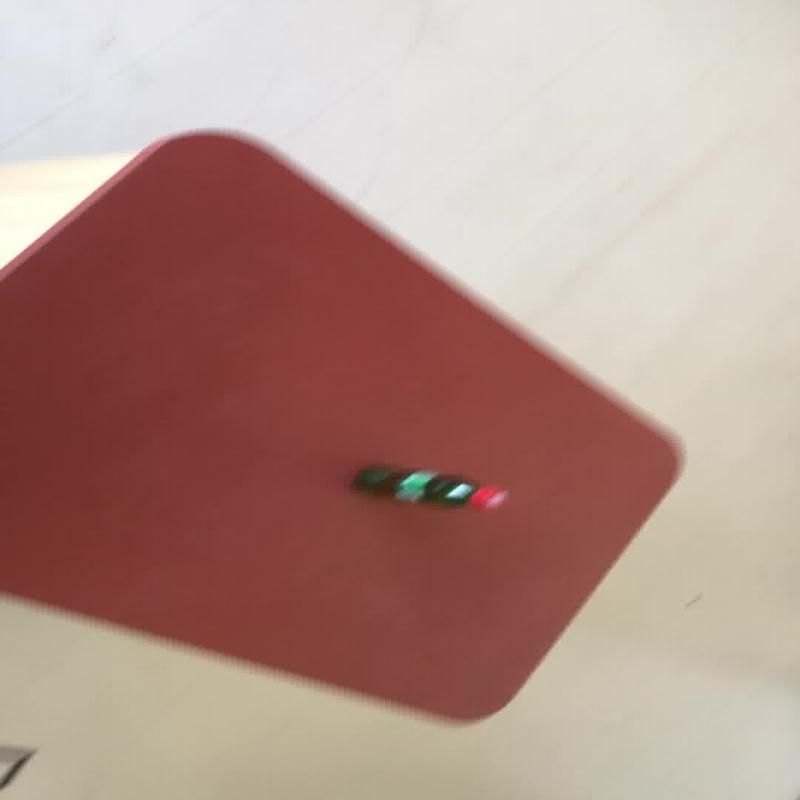guarana: (0, 127, 686, 722), (350, 464, 508, 511)
